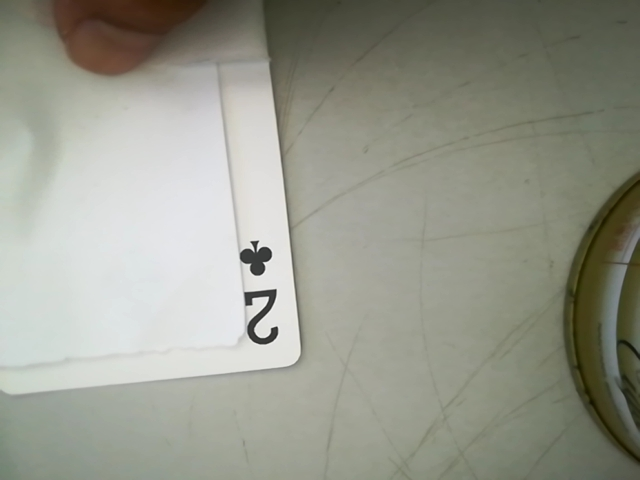mh 2: (222, 228, 291, 358)
